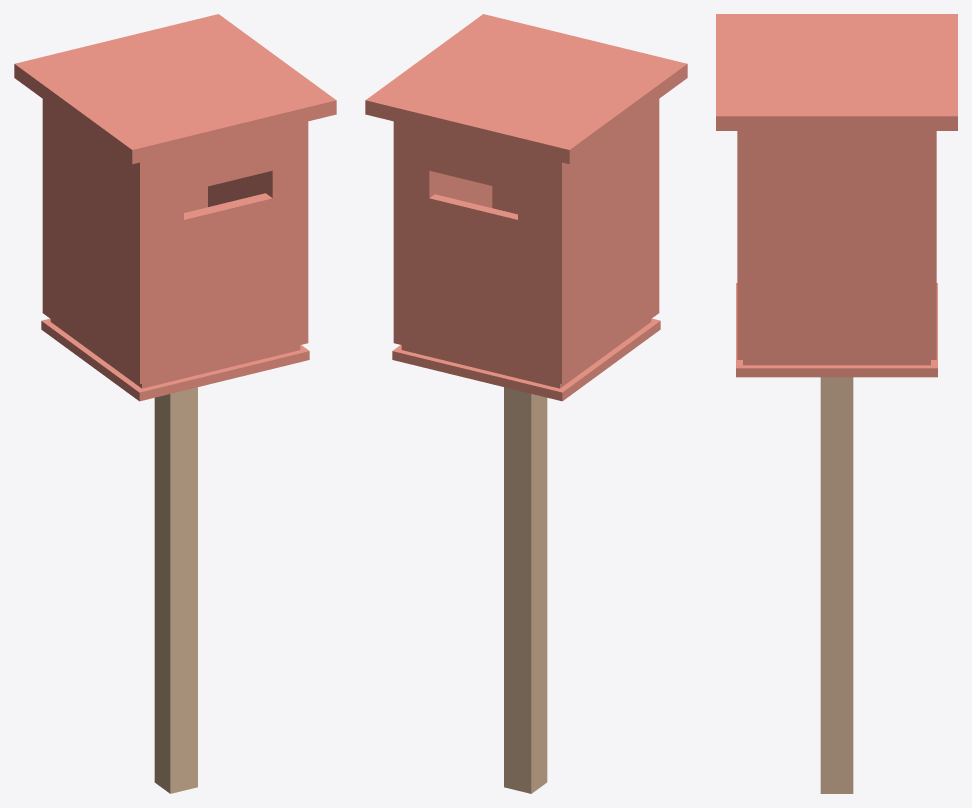
The model's file is mailbox.glb.
3 views of the same model, side by side, from view 1: azimuth 30°, elevation 25°; view 2: azimuth 150°, elevation 25°; view 3: azimuth 270°, elevation 25° (orthographic). The views are drawn at different scales.
Visible parts, largest first — view 1: mailbox; view 2: mailbox; view 3: mailbox.
Boxes of the visible parts, <box> form: mailbox: <box>14,14,336,793</box>; mailbox: <box>365,14,687,793</box>; mailbox: <box>716,14,957,793</box>.
Bounding box in the file's own units: 0.8154 × 2.68 × 0.8154.
